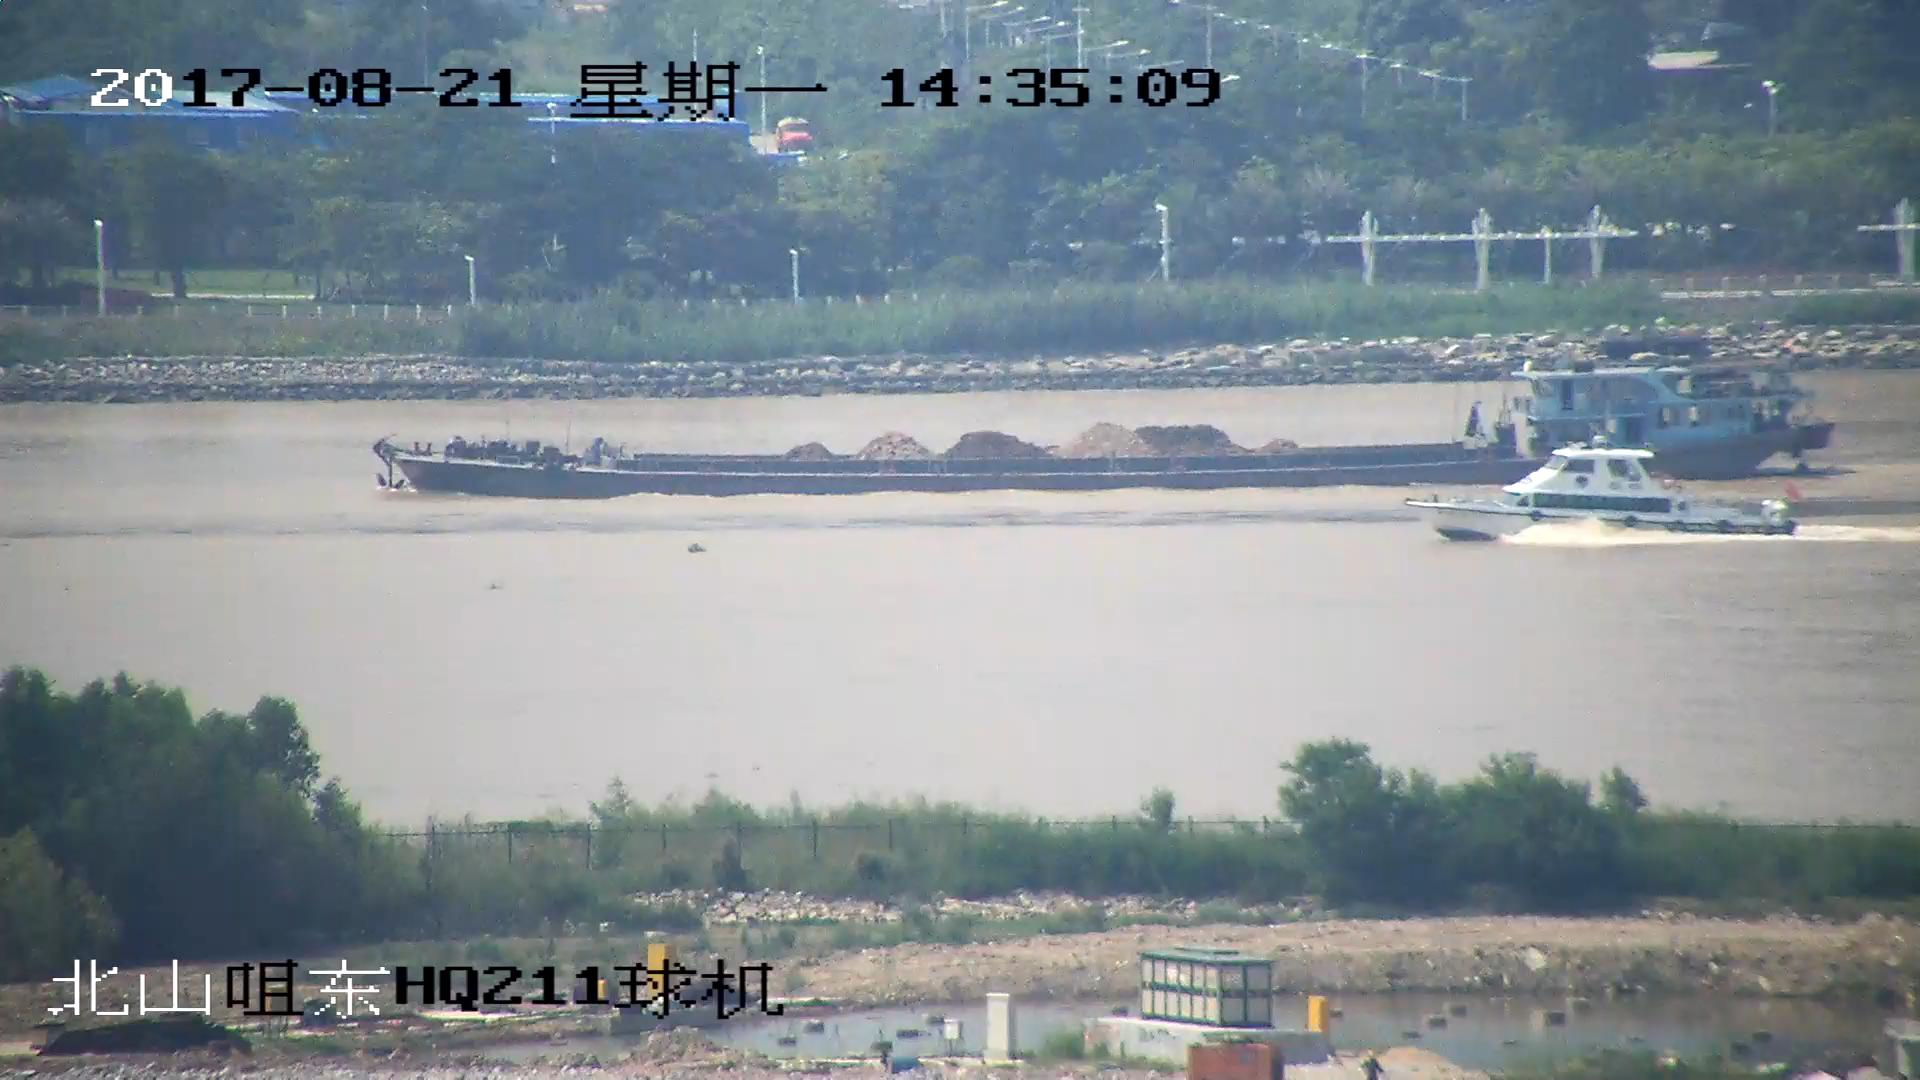ore carrier: (373, 352, 1820, 494)
passenger ship: (1410, 442, 1801, 543)
